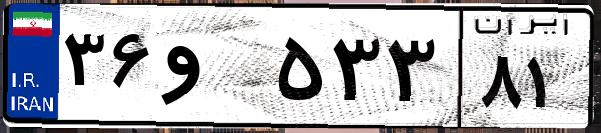1: (525, 38, 570, 115)
3: (385, 28, 445, 110), (330, 28, 385, 110), (57, 26, 110, 100)
5: (270, 28, 330, 110)
6: (110, 28, 158, 98)
8: (475, 38, 525, 113)
و: (158, 20, 270, 120)
